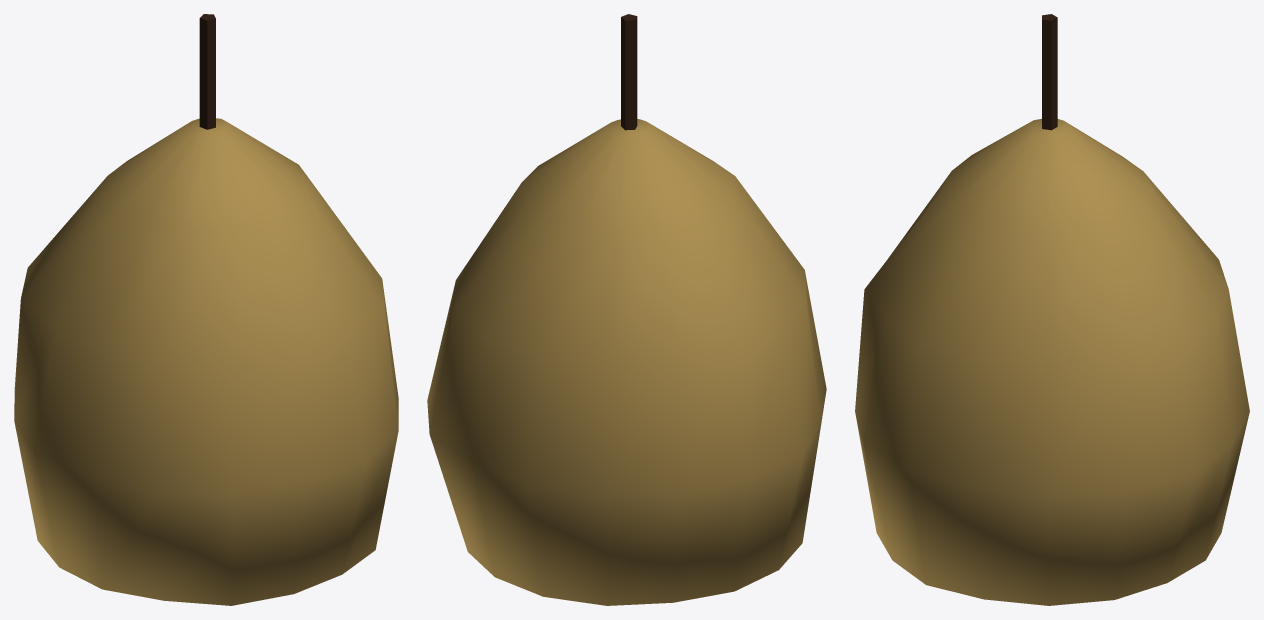
File: dong_rom.glb
3 renders of one model, left to right at view 1: azimuth 30°, elevation 25°; view 2: azimuth 150°, elevation 25°; view 3: azimuth 270°, elevation 25°, orthographic.
Visible parts, largest first — view 1: rom, coc; view 2: rom, coc; view 3: rom, coc.
Boxes of the visible parts, bbox=[...] form: rom: bbox=[14, 118, 398, 605]; coc: bbox=[199, 14, 215, 129]; rom: bbox=[427, 119, 826, 605]; coc: bbox=[621, 14, 637, 130]; rom: bbox=[855, 118, 1249, 605]; coc: bbox=[1042, 14, 1057, 130].
Size of the model in its own units: 2.34 by 3.3 by 2.29.
